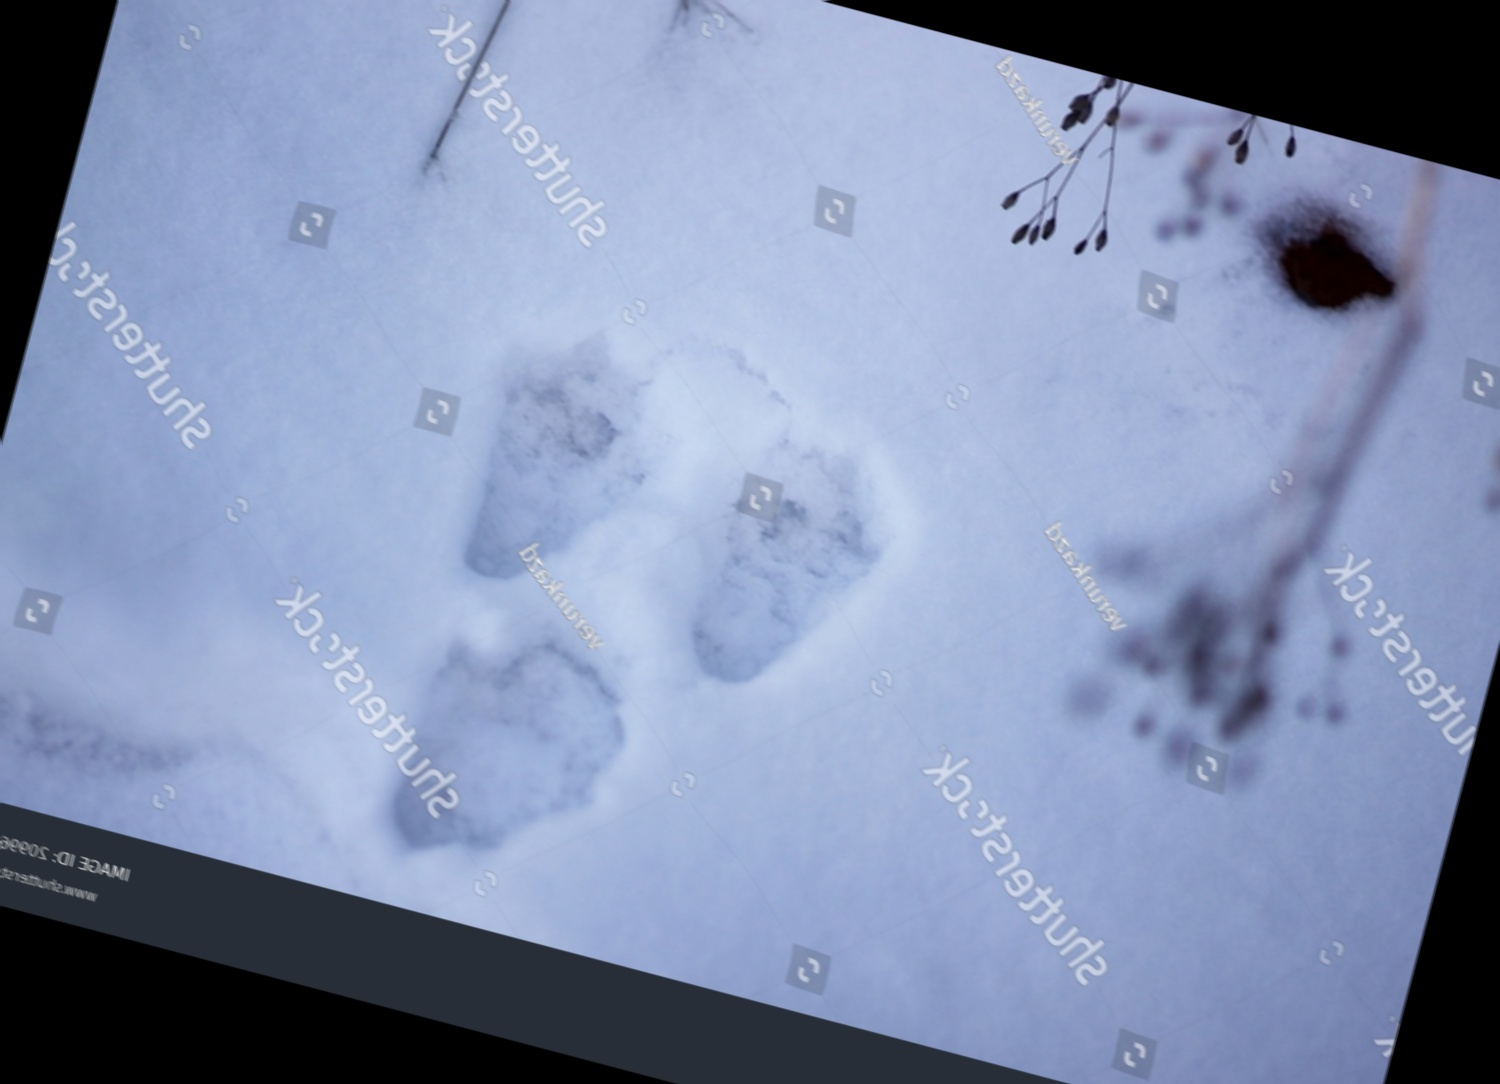rabbit: (290, 579, 686, 931), (620, 398, 948, 771), (392, 323, 721, 644)
